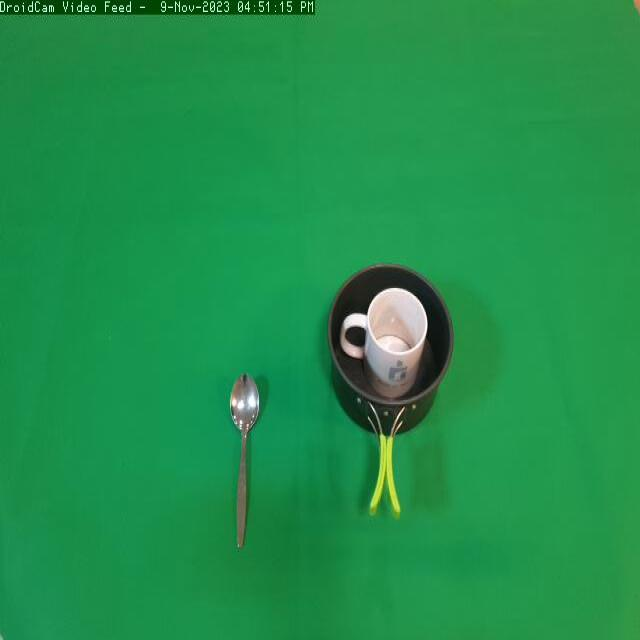cup: (338, 287, 431, 402)
pot: (305, 236, 464, 544)
spoon: (217, 363, 267, 554)
